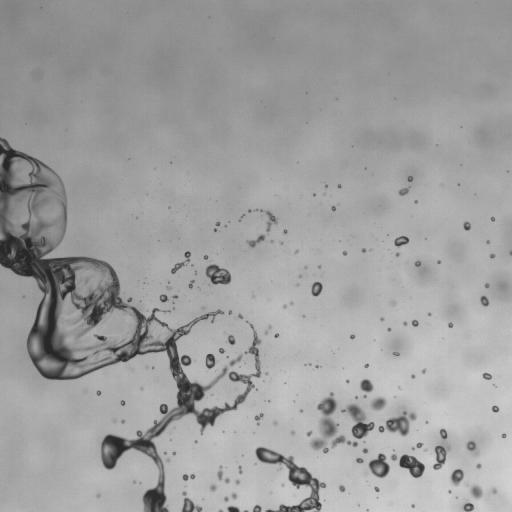droplet: (255, 446, 326, 511), (310, 392, 357, 453), (341, 403, 374, 439), (378, 412, 416, 436), (366, 453, 390, 478), (205, 264, 231, 284), (181, 491, 202, 511), (468, 484, 485, 499), (370, 396, 386, 411), (450, 469, 463, 486), (466, 441, 479, 456), (360, 379, 373, 393), (205, 354, 217, 369), (394, 236, 409, 247), (311, 281, 322, 296), (254, 413, 263, 424), (462, 502, 473, 511), (480, 296, 489, 306), (398, 187, 409, 195), (227, 334, 235, 345), (439, 428, 447, 439), (159, 294, 168, 302), (463, 221, 470, 230), (482, 373, 492, 379), (489, 487, 497, 494), (252, 505, 261, 511), (209, 484, 216, 491), (492, 405, 498, 412), (356, 457, 363, 463), (339, 485, 345, 492), (231, 492, 237, 499), (188, 280, 193, 288), (412, 320, 418, 326), (306, 430, 312, 436), (414, 261, 421, 266), (238, 466, 242, 473), (350, 334, 355, 339), (219, 348, 224, 353), (120, 400, 125, 405), (476, 463, 481, 468), (374, 486, 379, 491), (408, 176, 412, 181), (490, 253, 494, 258), (203, 255, 208, 259), (167, 285, 171, 290), (363, 448, 367, 453), (235, 479, 239, 484), (224, 496, 228, 501), (331, 206, 335, 210), (283, 229, 287, 233), (343, 251, 347, 255), (485, 283, 489, 287), (391, 301, 395, 305), (238, 314, 242, 318), (448, 323, 452, 327), (274, 333, 278, 337), (96, 390, 100, 394), (502, 433, 506, 437), (393, 352, 398, 355), (362, 248, 365, 252), (173, 295, 177, 298), (283, 304, 286, 308), (403, 322, 407, 325), (422, 369, 425, 373), (411, 375, 415, 378), (121, 419, 124, 423), (291, 430, 294, 434), (96, 494, 100, 497), (491, 217, 494, 220), (295, 250, 298, 253), (396, 253, 399, 256), (298, 274, 301, 277), (228, 311, 231, 314), (365, 364, 368, 367), (346, 379, 349, 382), (255, 209, 259, 211), (509, 251, 511, 255), (163, 310, 167, 312), (338, 185, 340, 188), (438, 260, 440, 263), (318, 265, 320, 268), (304, 266, 307, 268), (252, 294, 254, 297), (290, 302, 293, 304), (202, 306, 204, 309), (428, 313, 431, 315), (380, 318, 383, 320), (388, 328, 390, 331), (316, 365, 319, 367), (265, 372, 267, 375), (300, 409, 302, 412), (166, 459, 169, 461), (448, 490, 451, 492), (411, 505, 414, 507), (325, 185, 327, 187), (487, 241, 489, 243), (274, 421, 276, 423), (424, 449, 426, 451)
ligament: (0, 137, 261, 511), (390, 453, 424, 478), (432, 445, 450, 469), (171, 251, 190, 273), (261, 209, 277, 232), (246, 234, 266, 247), (217, 466, 229, 483), (227, 505, 241, 511), (182, 474, 195, 480), (411, 442, 422, 449), (264, 325, 271, 334), (214, 221, 220, 231), (239, 214, 244, 220), (218, 509, 223, 511), (243, 510, 247, 511)
